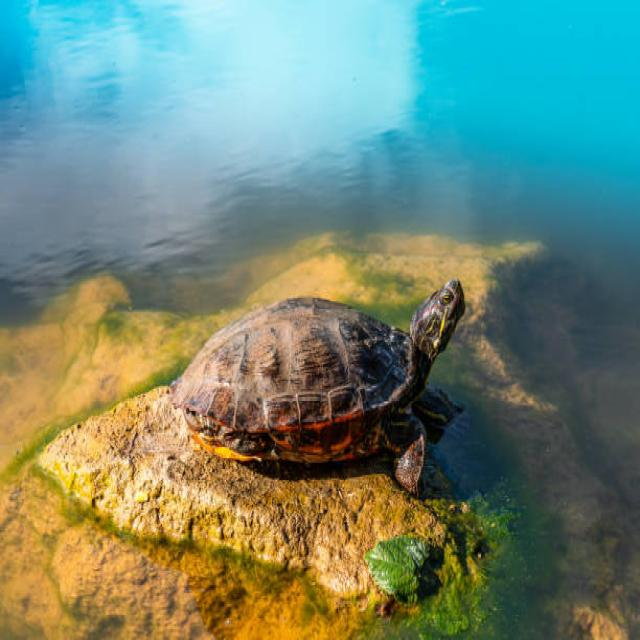terrapin: (156, 287, 409, 451), (413, 256, 472, 374), (412, 370, 486, 448), (382, 404, 436, 501), (194, 412, 260, 467)
